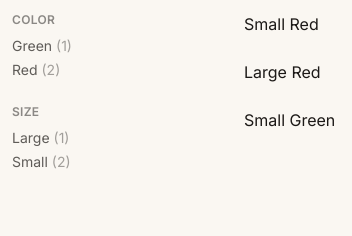
Test: FacetedBrowser › AND-combines selections across different facet categories
The image size is (352, 236).
Click the button "Red (2)" at (36, 70), box [12,60,60,80]
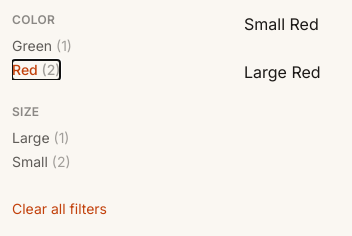
Expected: the list item "Small Red" is shown, [244,14,319,34]
Result: the list item "Small Green" is gone
Click the button "Small (2)" at (41, 162), box [12,152,71,172]
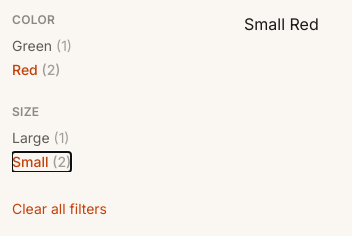
Expected: the list item "Small Red" is shown, [244,14,319,34]
Result: the list item "Large Red" is gone
Click the button "Clear all filters" at (60, 209), box [12,199,107,219]
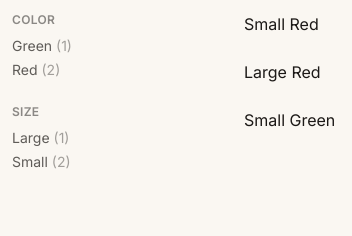
Expected: the list item "Small Red" is shown, [244,14,319,34]
Result: the list item "Large Red" is shown at [244,62,321,82]
Result: the list item "Small Green" is shown at [244,110,335,130]
